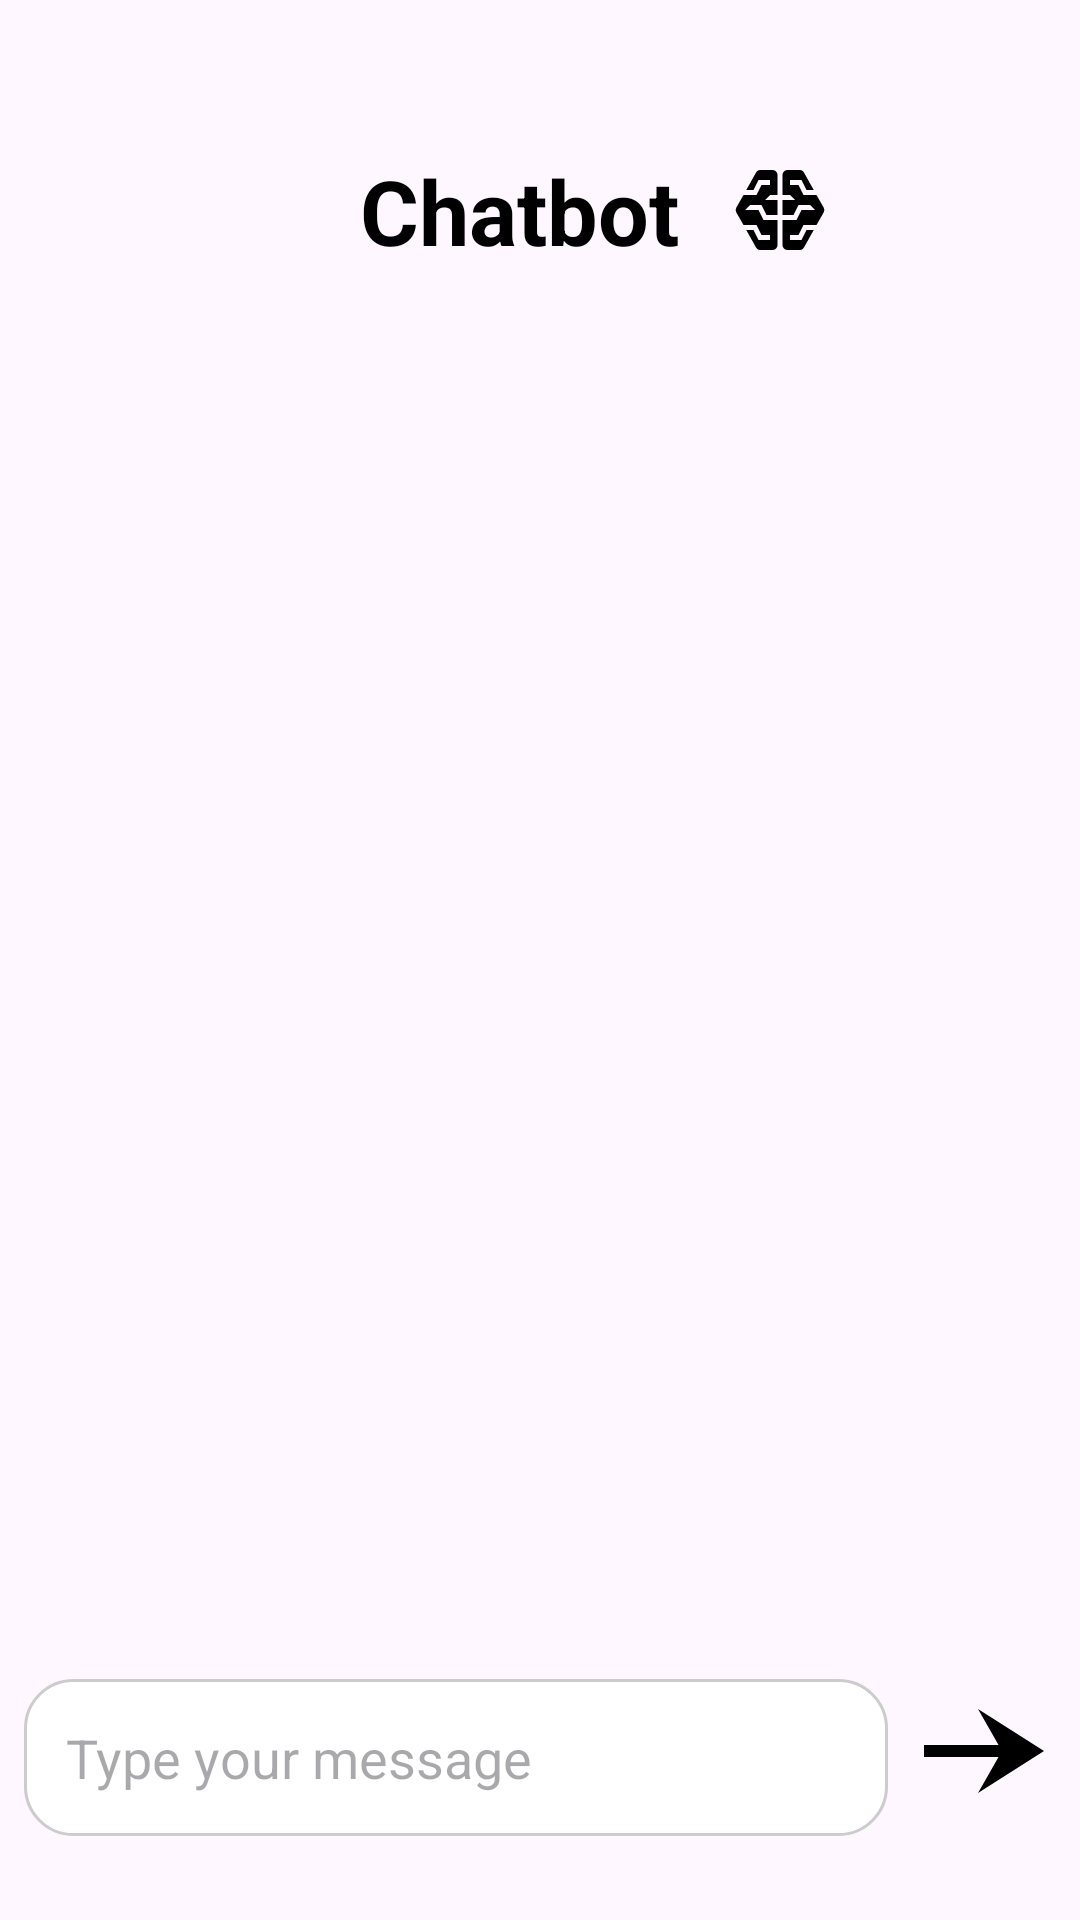

Named icons in this screenshot (1080px×1920px) and their bounding boxes, bbox=[x1, y1, x2, y2]:
line end arrow notch: bbox=[924, 1709, 1044, 1793]
